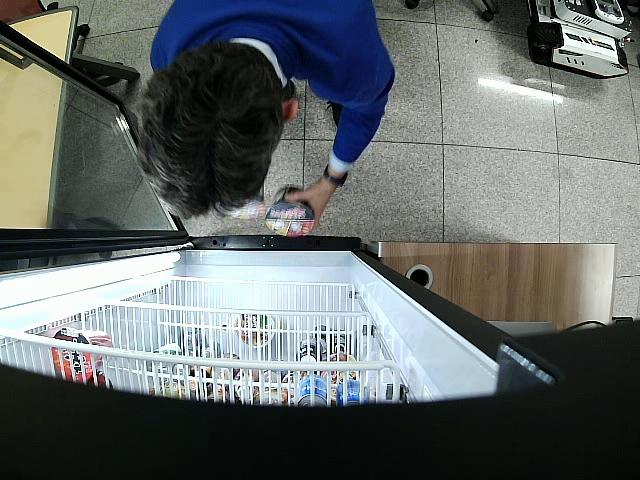00_hand: (285, 177, 333, 229)
07_buldak_L: (266, 185, 315, 236), (230, 199, 267, 219)
